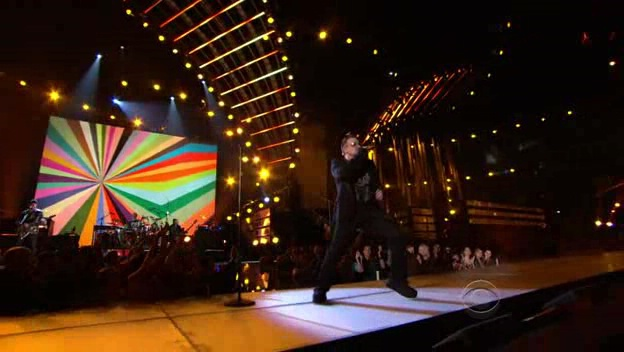person: (326, 134, 391, 251), (323, 134, 388, 251), (329, 134, 394, 251), (326, 131, 391, 248), (326, 137, 391, 254)
target_negative: (49, 206, 412, 249), (559, 216, 597, 347), (452, 140, 568, 178), (360, 126, 381, 276), (470, 84, 497, 171), (52, 346, 53, 347)
